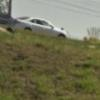cars: (8, 17, 68, 38)
